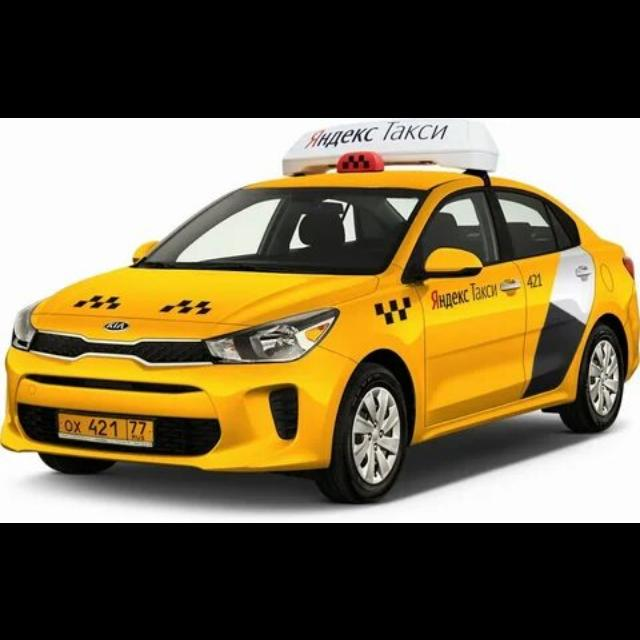taxi: (1, 118, 639, 504)
